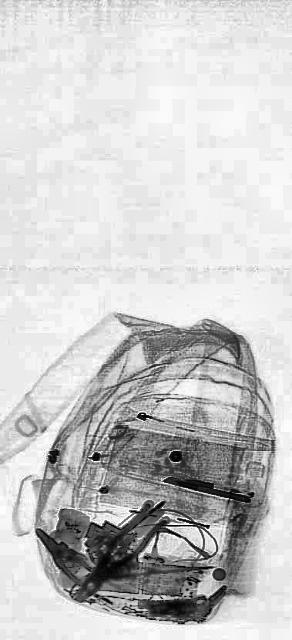Pliers: (73, 489, 166, 617), (33, 514, 93, 596)
